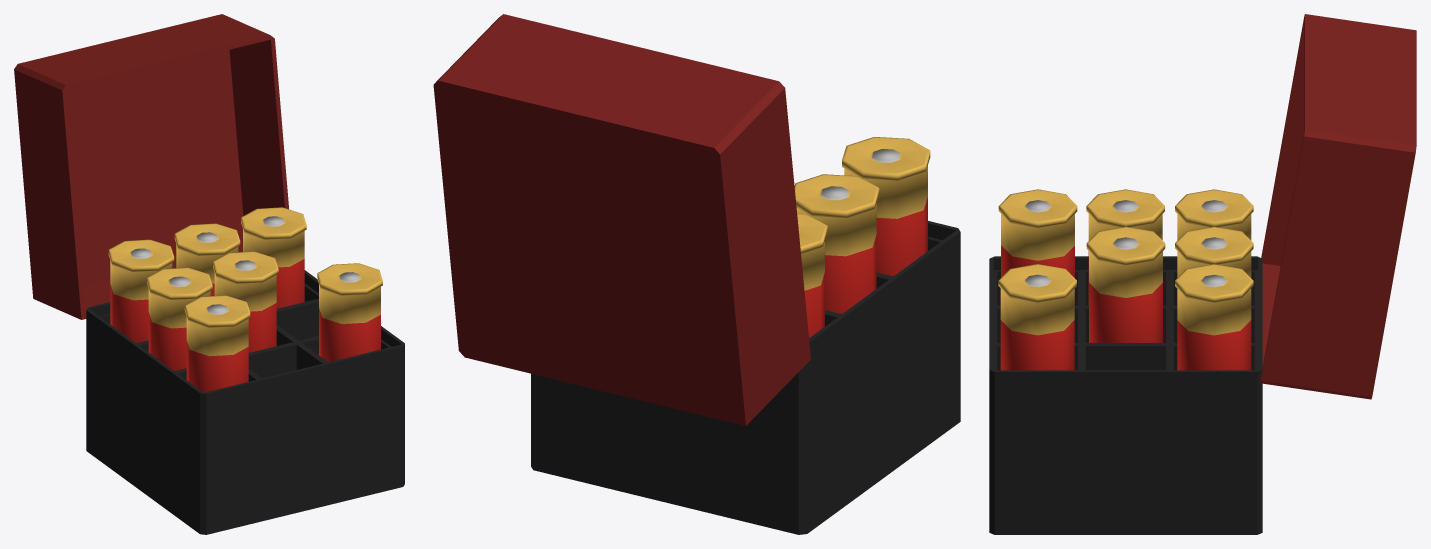
Rendered from Shotgunammo.fbx.
3 views of the same model, side by side, from view 1: azimuth 30°, elevation 25°; view 2: azimuth 150°, elevation 25°; view 3: azimuth 270°, elevation 25° (orthographic). The views are drawn at different scales.
Parts seen in each view (by area): view 1: Cube; view 2: Cube; view 3: Cube.
Boxes of the visible parts, x1=… form: Cube: x1=14, y1=14, x2=404, y2=534; Cube: x1=433, y1=14, x2=960, y2=534; Cube: x1=989, y1=14, x2=1416, y2=534.
Bounding box in the file's own units: 24.91 × 39.28 × 37.51.
